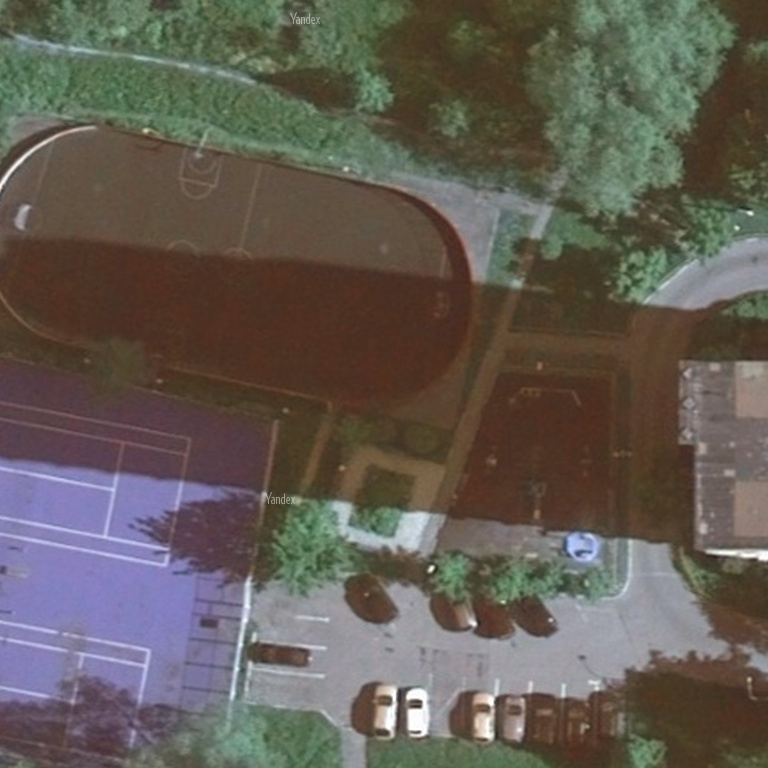basket_court: (79, 127, 268, 384)
